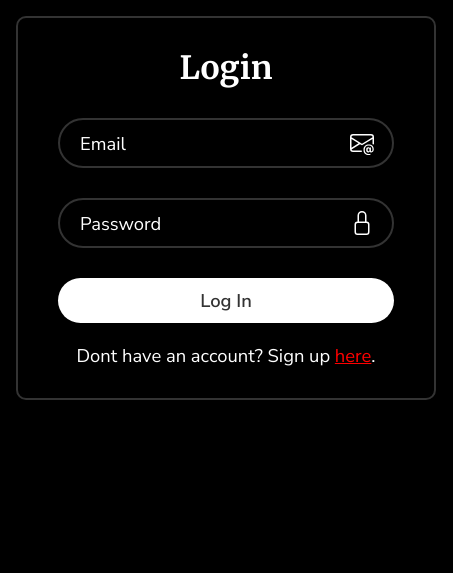
login › success › shows success message when login is successful
This screenshot has width=453, height=573.
Type "test@gmail.com" into the field with placeholder "Email" at (226, 143), box [58, 118, 394, 168]
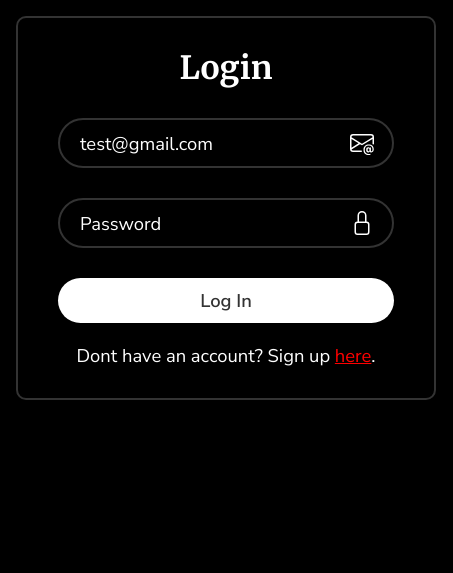
Type "testpassword" into the password field with placeholder "Password" at (226, 223), box [58, 198, 394, 248]
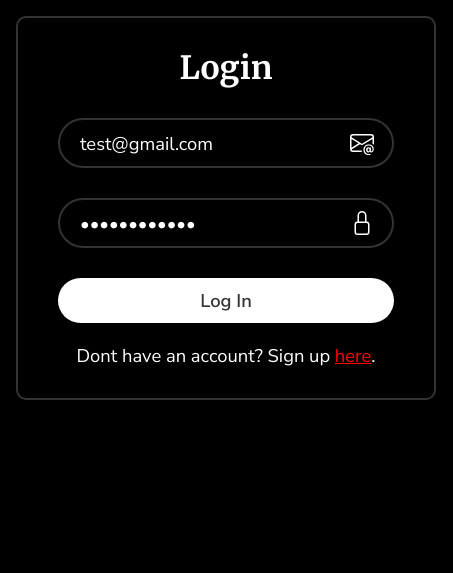
Click the button with test id "log-in-button" at (226, 300), box [58, 278, 394, 323]
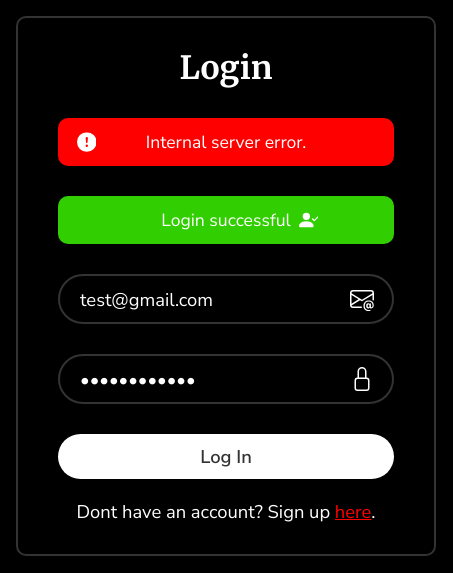
Now the text "Login successful" is shown, box [161, 208, 318, 232]
